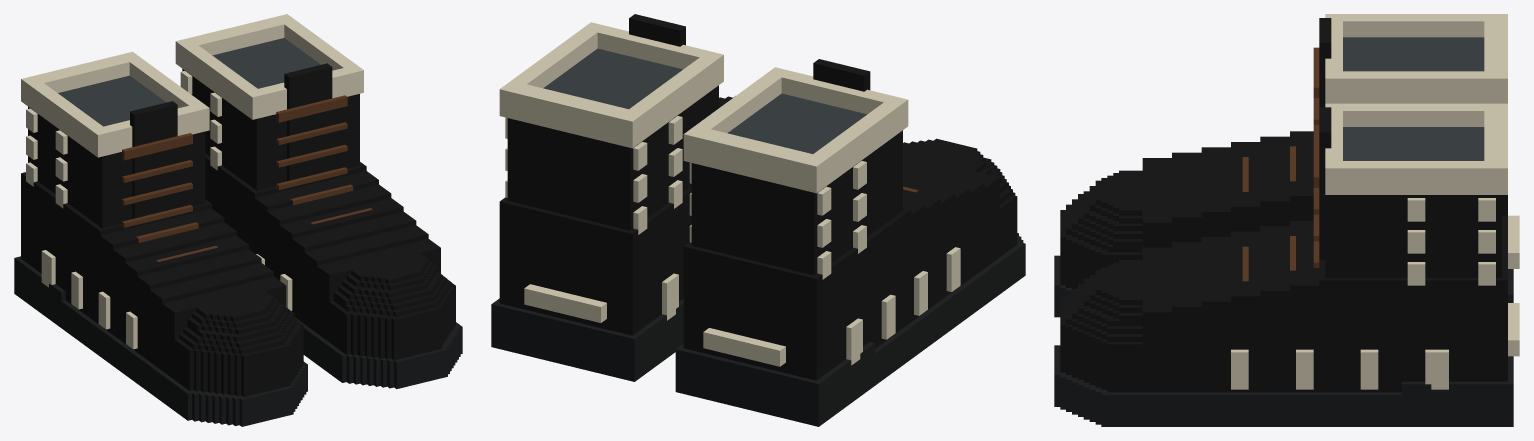
The model's file is boots_bone.glb.
3 views of the same model, side by side, from view 1: azimuth 30°, elevation 25°; view 2: azimuth 150°, elevation 25°; view 3: azimuth 270°, elevation 25° (orthographic). The views are drawn at different scales.
Visible parts, largest first — view 1: boots_bone:compound; view 2: boots_bone:compound; view 3: boots_bone:compound.
Boxes of the visible parts, <box> form: boots_bone:compound: <box>14,14,462,426</box>; boots_bone:compound: <box>491,14,1025,426</box>; boots_bone:compound: <box>1054,14,1519,426</box>.
Size of the model in its own units: 0.256 by 0.204 by 0.316.
